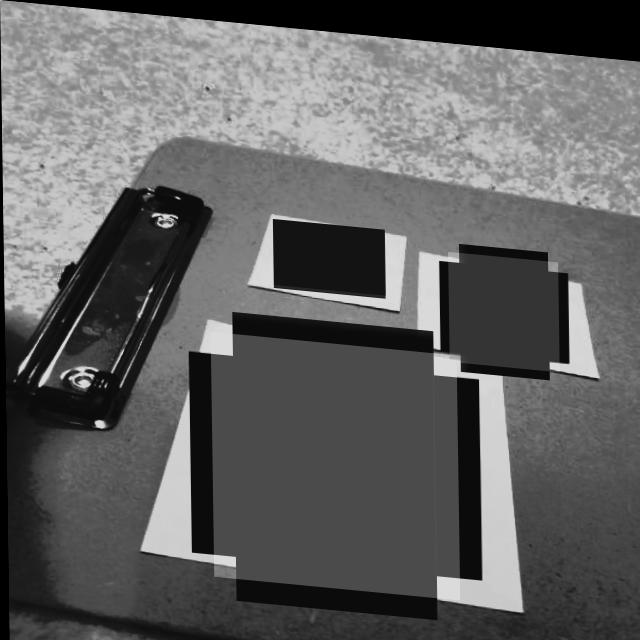qr_code: (210, 328, 458, 591), (447, 243, 559, 361), (272, 214, 385, 290)
